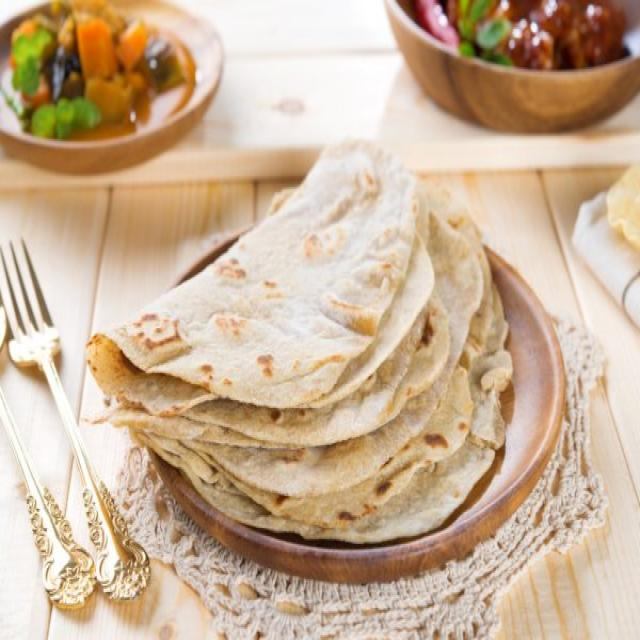roti: (80, 132, 511, 543)
